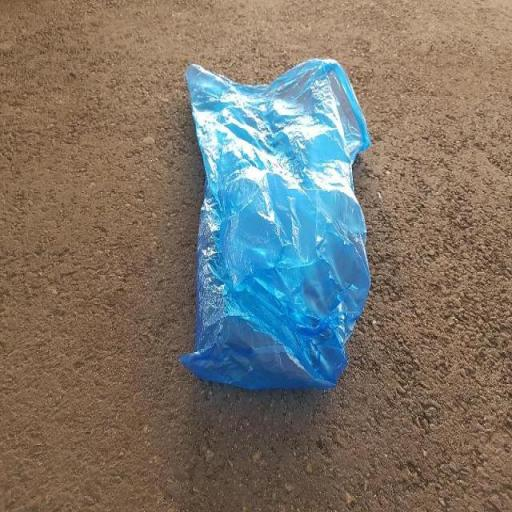plastic-bag: (186, 59, 380, 393)
